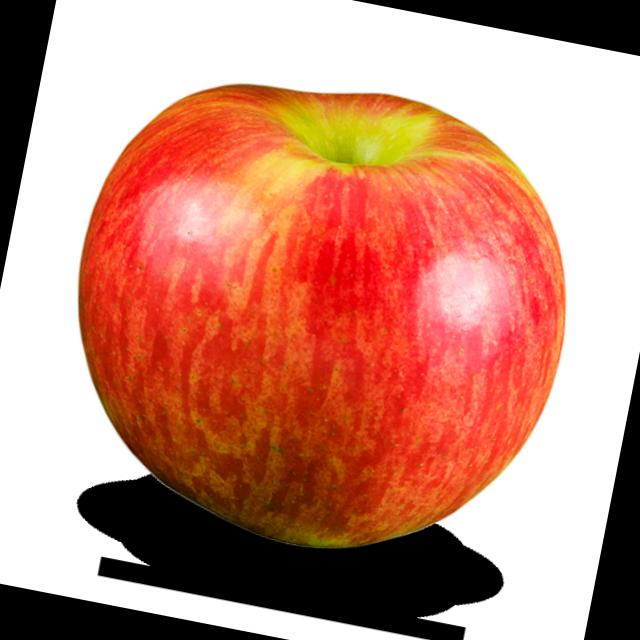apple: (33, 47, 603, 586)
